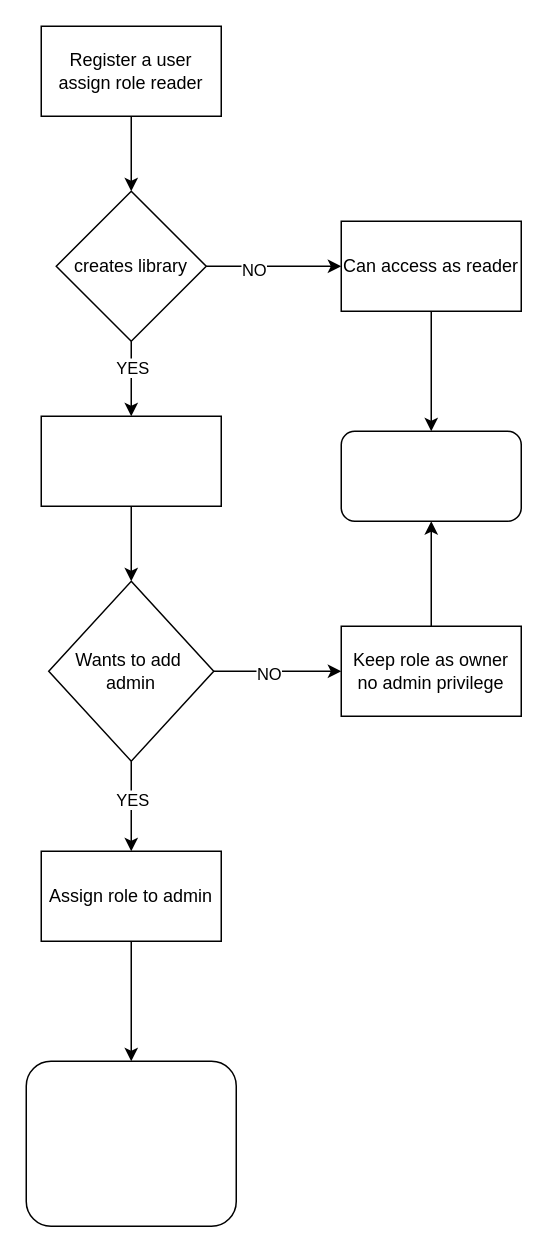
Some shapes in this 548 by 1253 pixel diagram are drawn without their labels. Each missing label, with the centre of its shape:
"Can Add book Remove book Update book List issue request Approve/reject request" goes at (130,1143).
"Chnage role to owner" goes at (130,460).
"Search a book Raise issue request" goes at (430,475).
